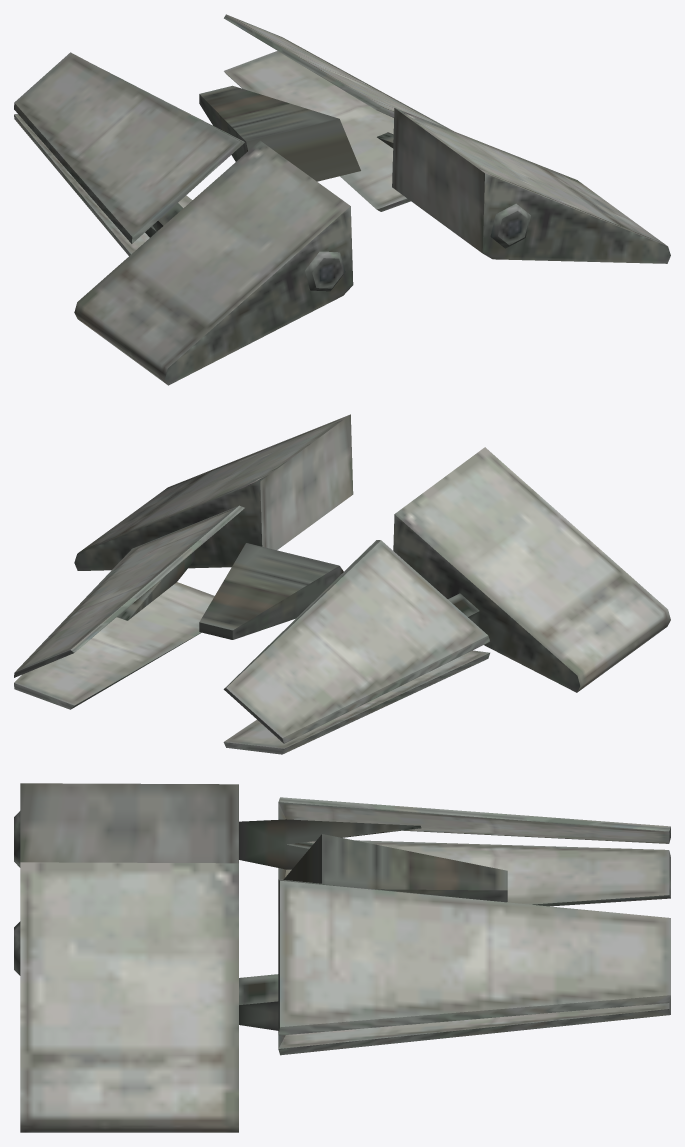
The model's file is black_sun_fighter_heavy_struct_s01_l2.fbx.
3 renders of one model, top to bottom at view 1: azimuth 30°, elevation 25°; view 2: azimuth 150°, elevation 25°; view 3: azimuth 270°, elevation 25°, orthographic. The views are drawn at different scales.
Visible parts, largest first — view 1: mesh_node; view 2: mesh_node; view 3: mesh_node.
Boxes of the visible parts, <box> form: mesh_node: <box>14,14,670,385</box>; mesh_node: <box>14,414,670,754</box>; mesh_node: <box>14,783,670,1132</box>.
Size of the model in its own units: 14.64 by 3.79 by 13.64.
